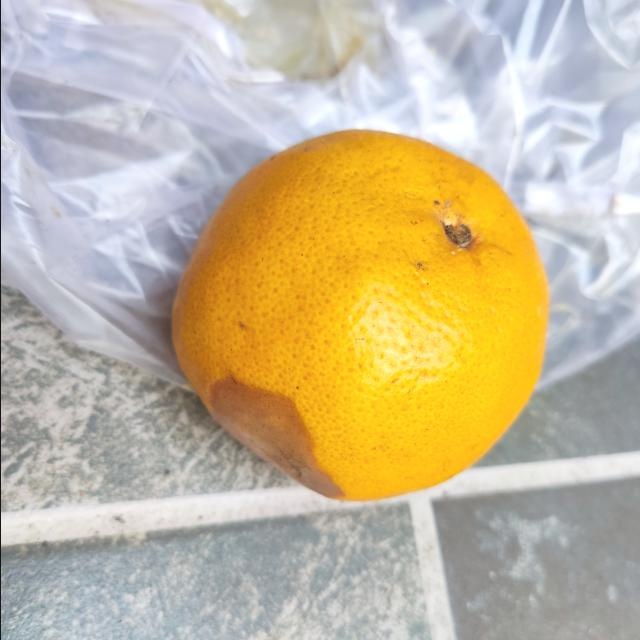agrume: (169, 128, 553, 505)
